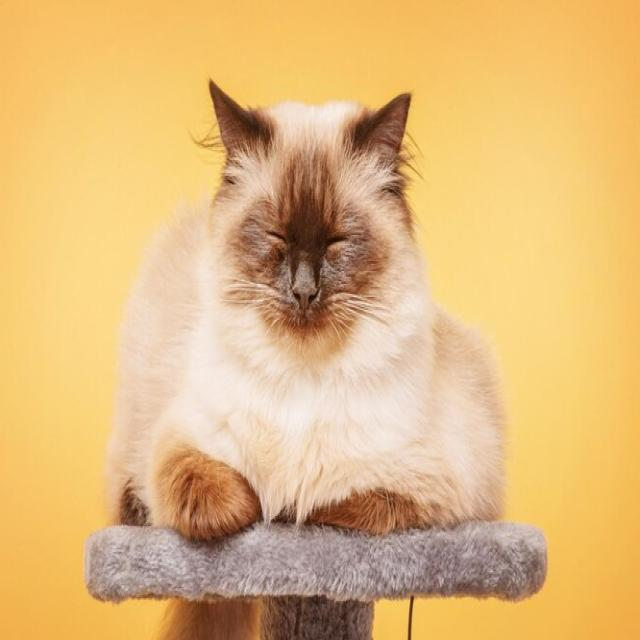Neva Masquerade: (100, 69, 512, 540)
